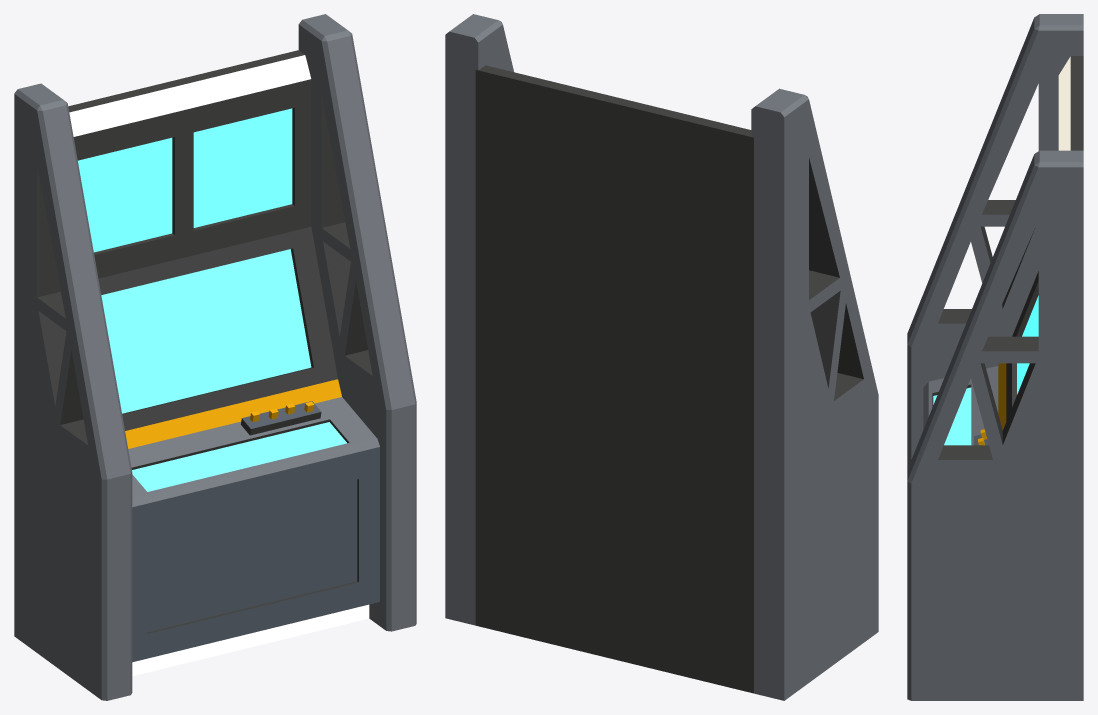
Rendered from wall_bank_comms.glb.
The picture shows the model from 3 angles, left to right: view 1: azimuth 30°, elevation 25°; view 2: azimuth 150°, elevation 25°; view 3: azimuth 270°, elevation 25°; orthographic projection. The views are drawn at different scales.
Visible parts, largest first — view 1: wall_bank_comms; view 2: wall_bank_comms; view 3: wall_bank_comms.
Part boxes in pixels (x1,y1,x2,y2): wall_bank_comms: (14,14,416,700); wall_bank_comms: (445,14,878,700); wall_bank_comms: (907,14,1083,700).
Bounding box in the file's own units: 1.34 × 2.22 × 0.66.
